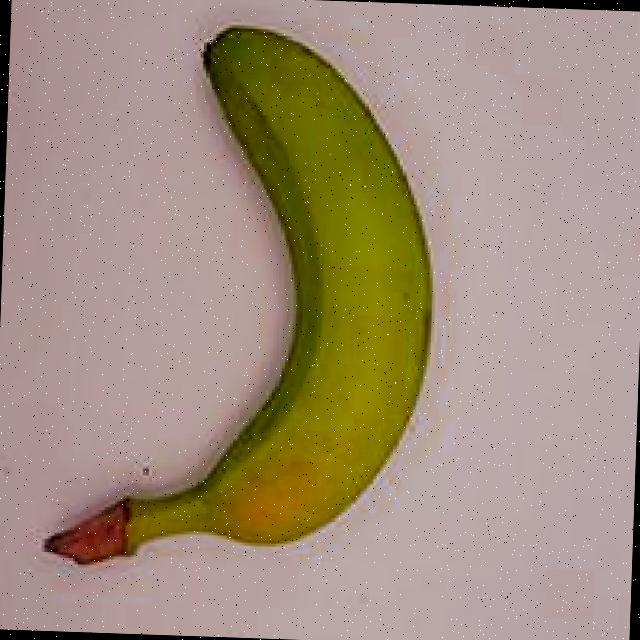Unripe: (16, 0, 508, 583)
